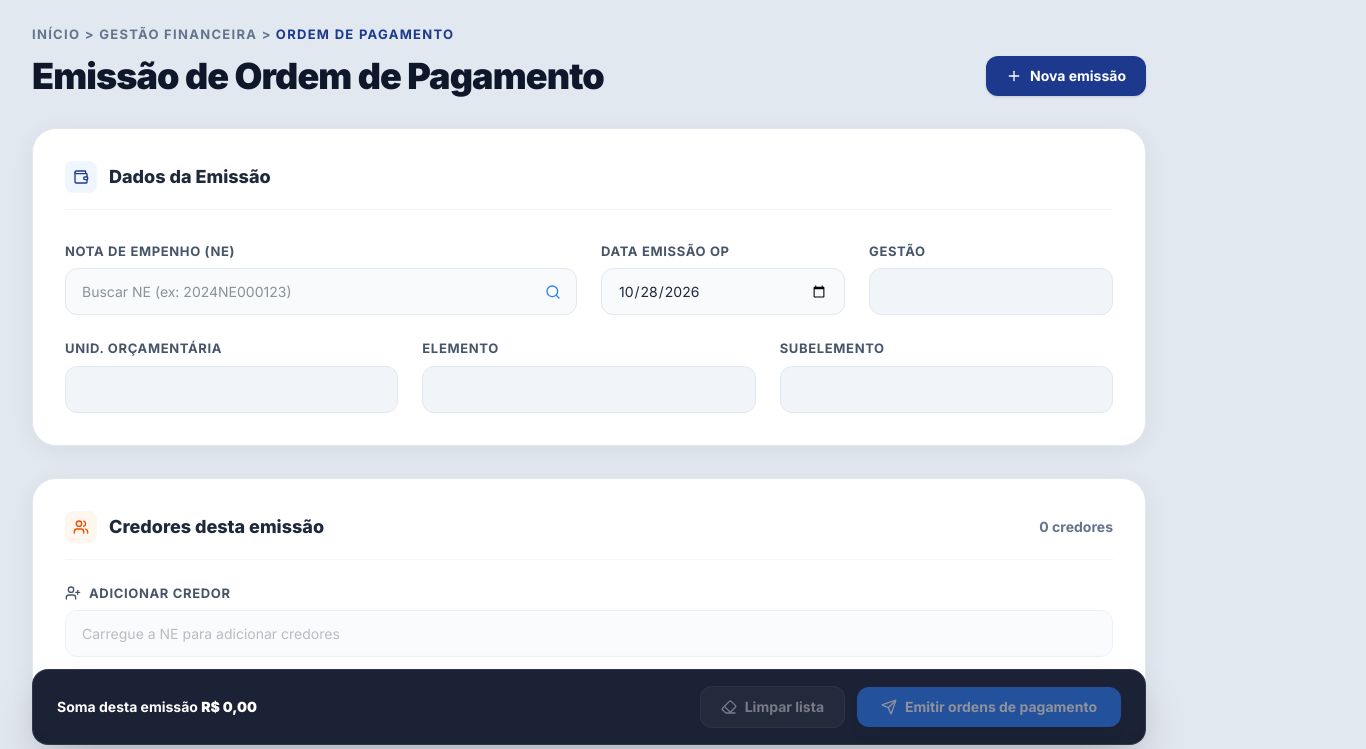
Scenario: Emissão de OP com lista de credores (T35-B) › faixa de saldo: Valor · Já gasto · Nesta emissão · Restante
The width and height of the screenshot is (1366, 749).
Type "2026NE000001" into the dropdown labelled "Nota de Empenho (NE)" at (321, 292), box 65,268 -> 577,315
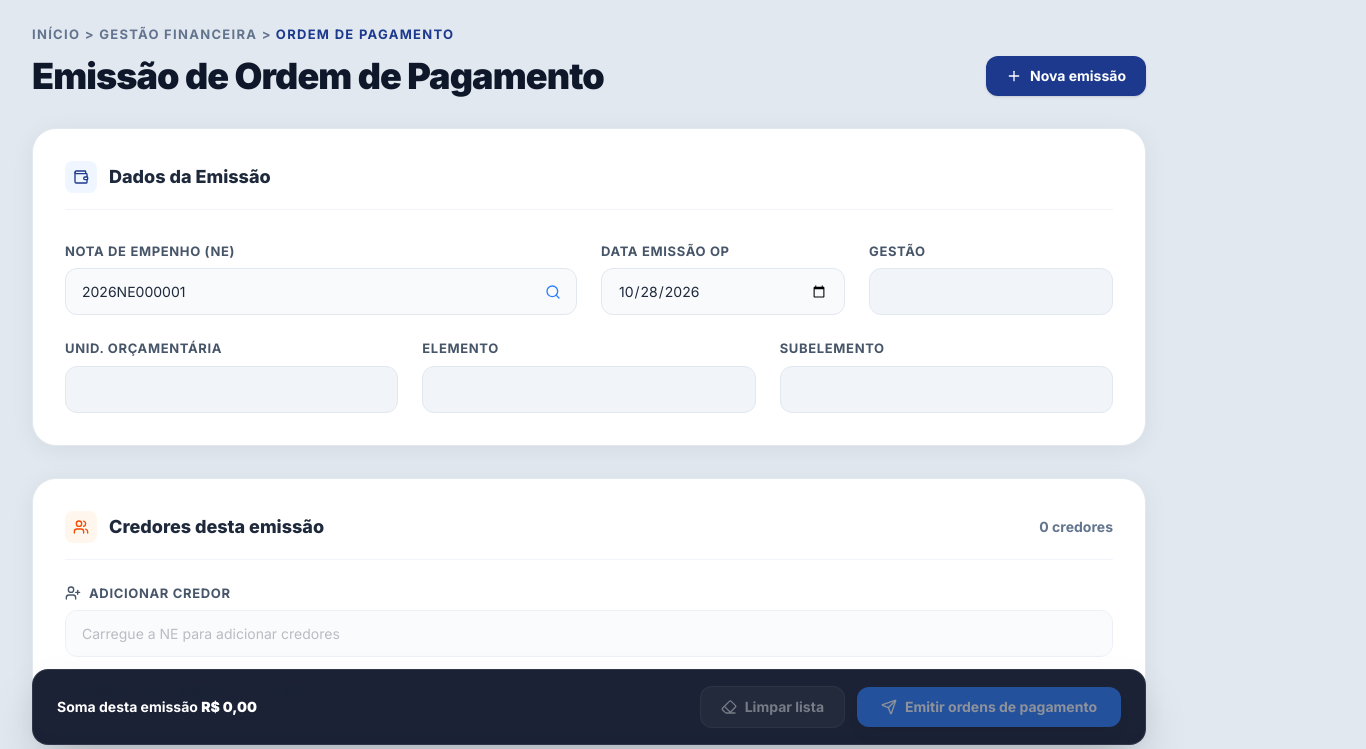
Click the button named "Carregar a NE" at (553, 292), box 537,276 -> 569,308
(page scrolled)
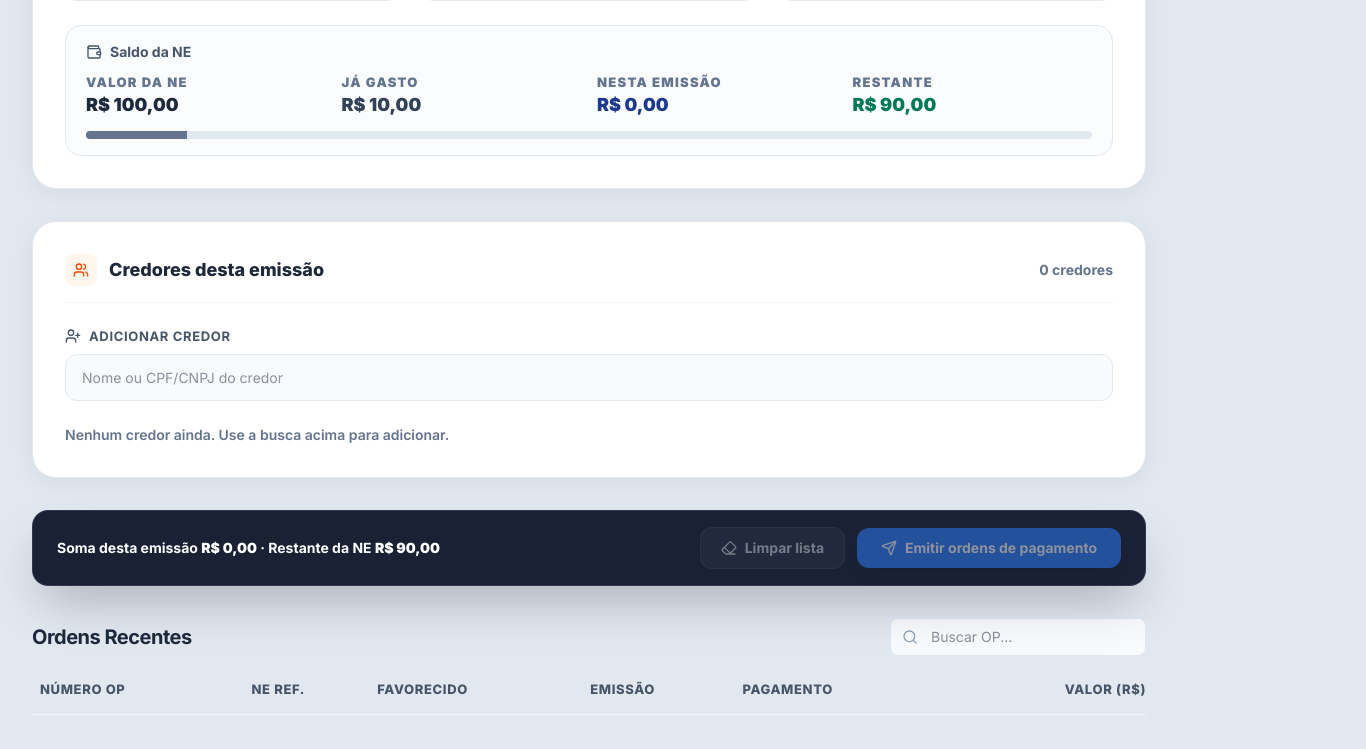
Expected: the element with test id "faixa-saldo-emissao" is shown, 65,25 -> 1113,156
Type "Ana" into the dropdown labelled "Adicionar credor" at (589, 377), box 65,354 -> 1113,401
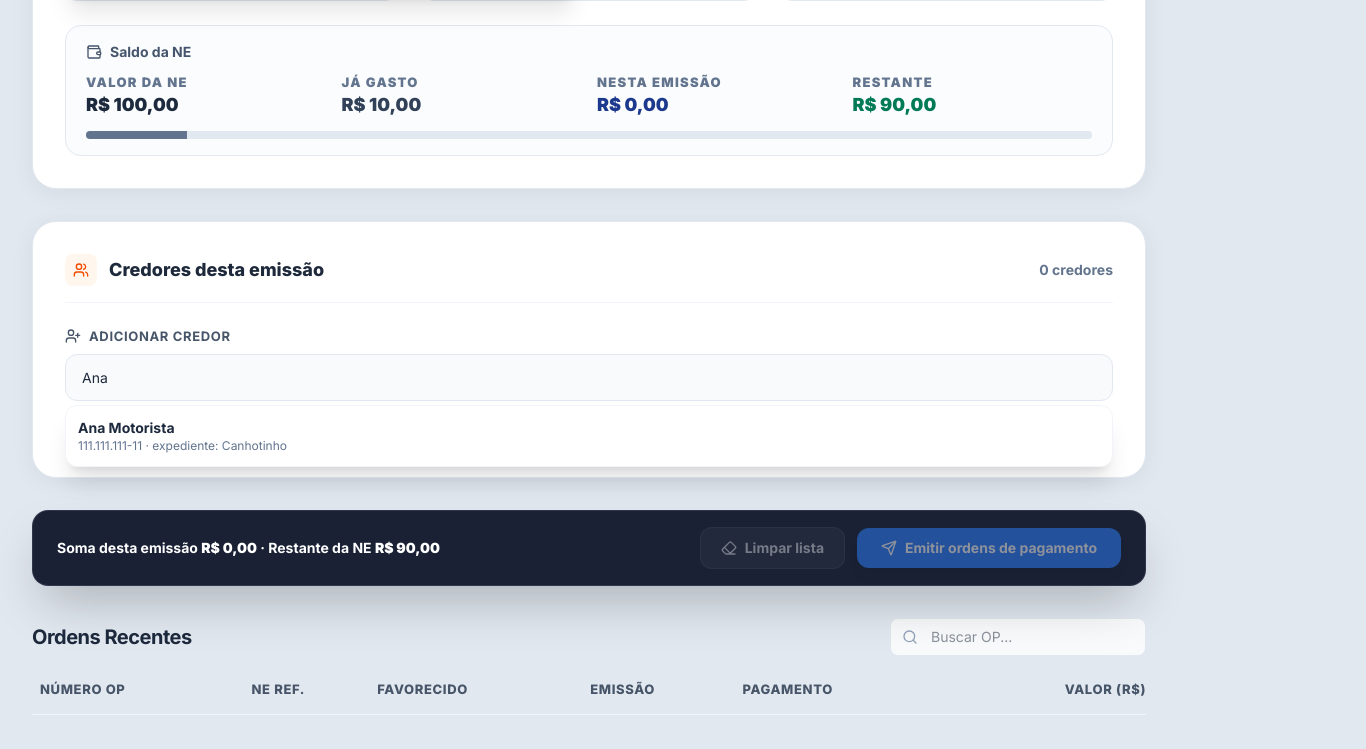
Press the mouse on the option "Ana Motorista 111.111.111-11 · expediente: Canhotinho" at (182, 436), box 78,419 -> 287,453
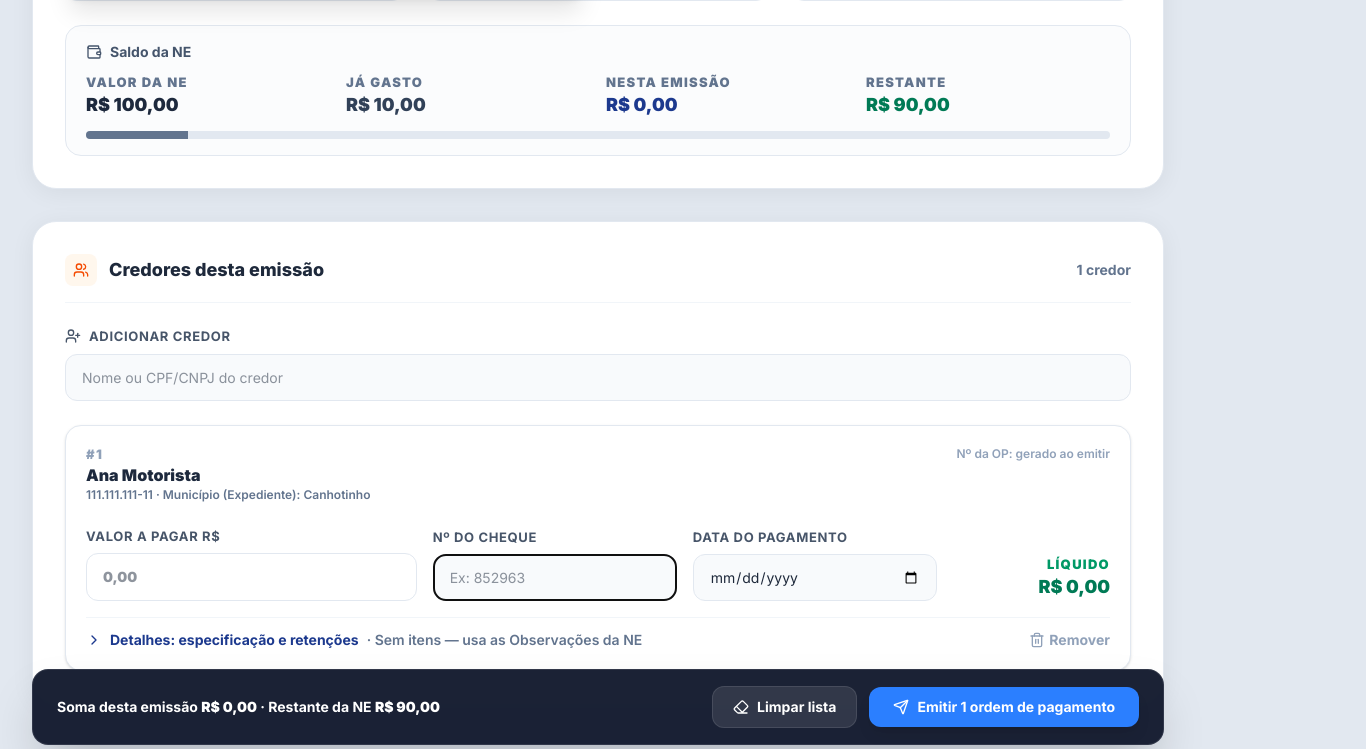
Type "3000" into the field labelled "Valor a Pagar R$" at (251, 577), box 86,554 -> 417,601
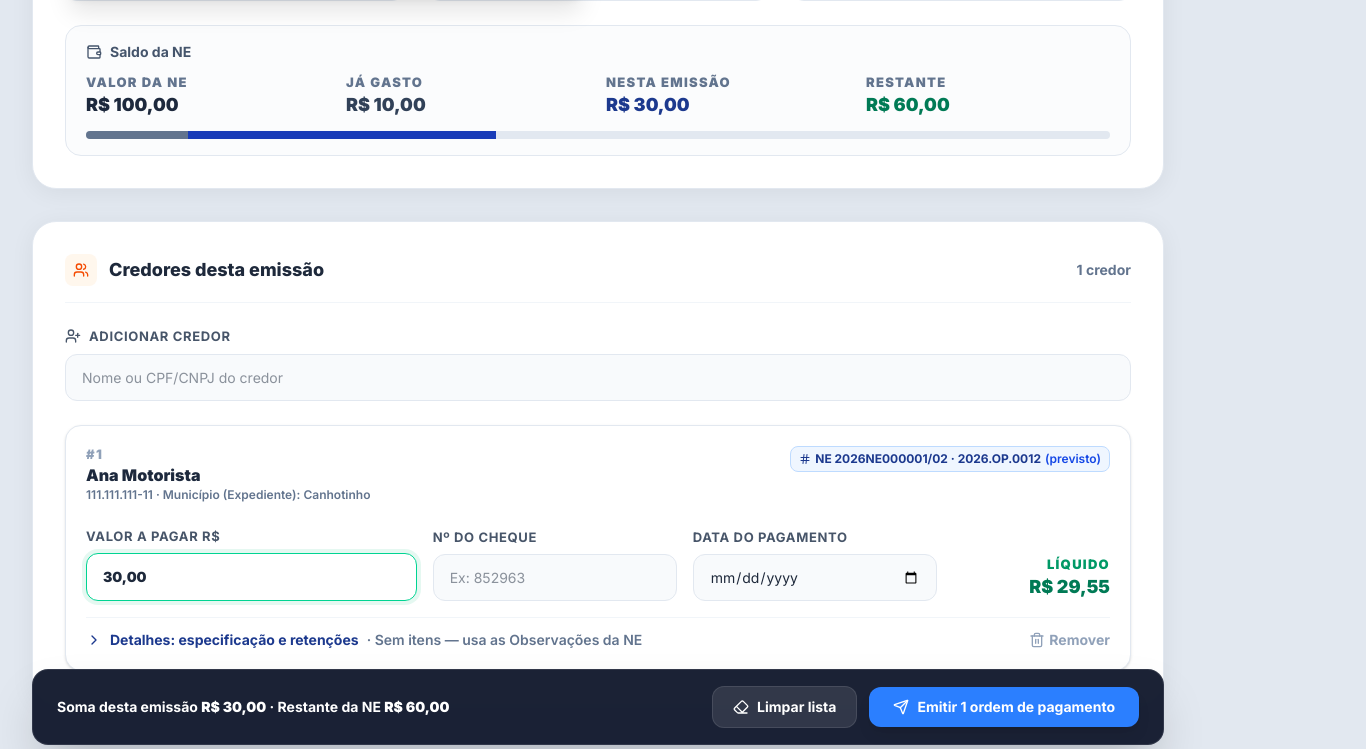
Expected: the text "R$ 100,00" is shown, 86,94 -> 178,115
Expected: the text "R$ 10,00" is shown, 346,94 -> 426,115
Expected: the text "R$ 30,00" below "Nesta emissão" is shown, 606,94 -> 690,115
